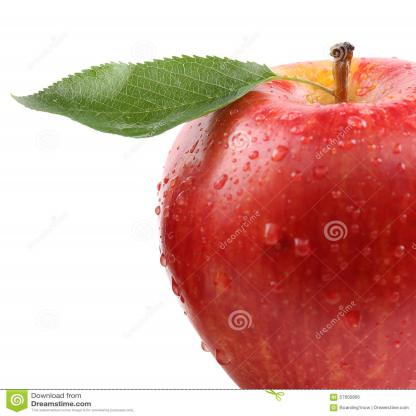apple leaf: (4, 37, 282, 140)
